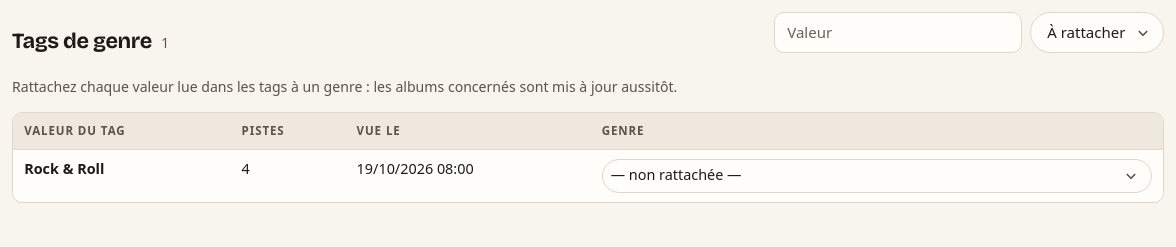
Test case: admin : tags et tâches › rattacher une valeur de tag à un genre
expect the text "Rock & Roll" is shown: met, box [24, 159, 104, 178]
Select "Rock" in the dropdown named "Genre de « Rock & Roll »" at (877, 176), box [602, 159, 1152, 193]
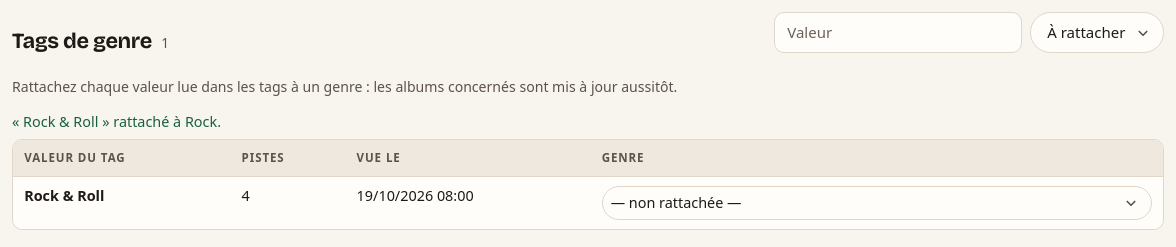
expect the text "« Rock & Roll » rattaché à Rock." is shown: met, box [12, 112, 221, 131]
